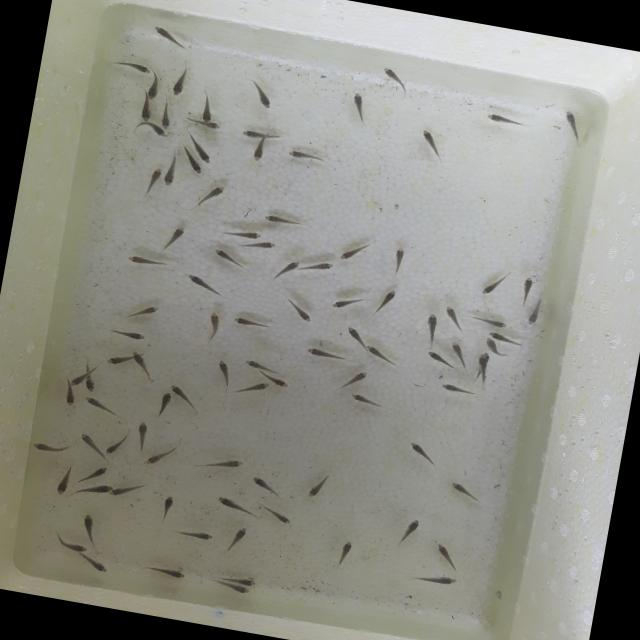fingerling: (182, 272, 232, 302), (240, 76, 282, 111), (146, 23, 194, 53), (196, 449, 247, 476), (378, 65, 418, 96), (279, 296, 320, 326), (298, 343, 350, 366), (336, 236, 375, 266), (220, 522, 250, 560), (431, 538, 464, 572), (50, 462, 79, 500), (213, 492, 252, 520), (256, 210, 310, 230), (144, 442, 181, 471), (146, 562, 194, 584), (74, 429, 108, 460), (415, 127, 448, 158), (559, 108, 585, 147), (126, 297, 165, 323), (258, 366, 297, 392), (168, 384, 204, 412), (75, 510, 105, 543), (361, 344, 402, 368), (256, 502, 297, 526), (206, 577, 255, 597), (211, 249, 250, 274), (188, 138, 220, 168), (197, 178, 227, 210), (479, 268, 509, 300), (110, 478, 150, 502), (125, 251, 168, 273), (446, 478, 482, 504), (406, 438, 438, 466), (396, 514, 422, 548), (485, 328, 525, 350), (418, 568, 458, 590), (344, 90, 372, 121), (329, 292, 368, 314), (130, 416, 156, 449), (484, 111, 526, 131), (440, 303, 468, 333), (106, 325, 150, 344), (419, 310, 445, 342), (422, 350, 458, 373), (346, 392, 386, 412), (82, 396, 122, 416), (283, 148, 327, 166), (169, 60, 189, 99), (248, 472, 280, 496), (156, 492, 180, 524), (160, 150, 179, 190), (242, 354, 280, 374), (76, 478, 114, 498), (128, 120, 170, 138), (228, 314, 270, 332), (374, 287, 400, 316), (332, 535, 357, 565), (337, 367, 368, 391), (104, 431, 131, 458), (162, 224, 188, 252), (340, 322, 368, 348), (433, 382, 475, 399), (196, 89, 216, 124), (178, 528, 216, 546), (525, 296, 547, 327), (180, 117, 225, 132), (31, 438, 68, 456), (515, 273, 535, 306), (101, 351, 134, 371), (220, 571, 261, 587), (145, 68, 164, 102), (142, 164, 164, 193), (243, 237, 278, 255), (203, 310, 224, 340), (276, 256, 300, 282), (306, 474, 330, 500), (302, 258, 334, 277), (238, 128, 281, 142), (110, 59, 150, 74), (157, 102, 177, 132), (129, 351, 153, 376), (58, 384, 82, 409), (82, 460, 112, 480), (446, 336, 468, 363), (474, 314, 511, 330), (225, 226, 262, 242), (55, 538, 91, 554), (180, 156, 208, 176), (83, 558, 114, 576), (386, 247, 406, 274), (214, 358, 234, 385), (238, 378, 268, 396), (246, 138, 268, 162), (154, 389, 171, 418), (134, 100, 154, 122), (482, 337, 502, 357), (475, 354, 488, 384), (83, 374, 102, 394), (68, 371, 86, 386)
